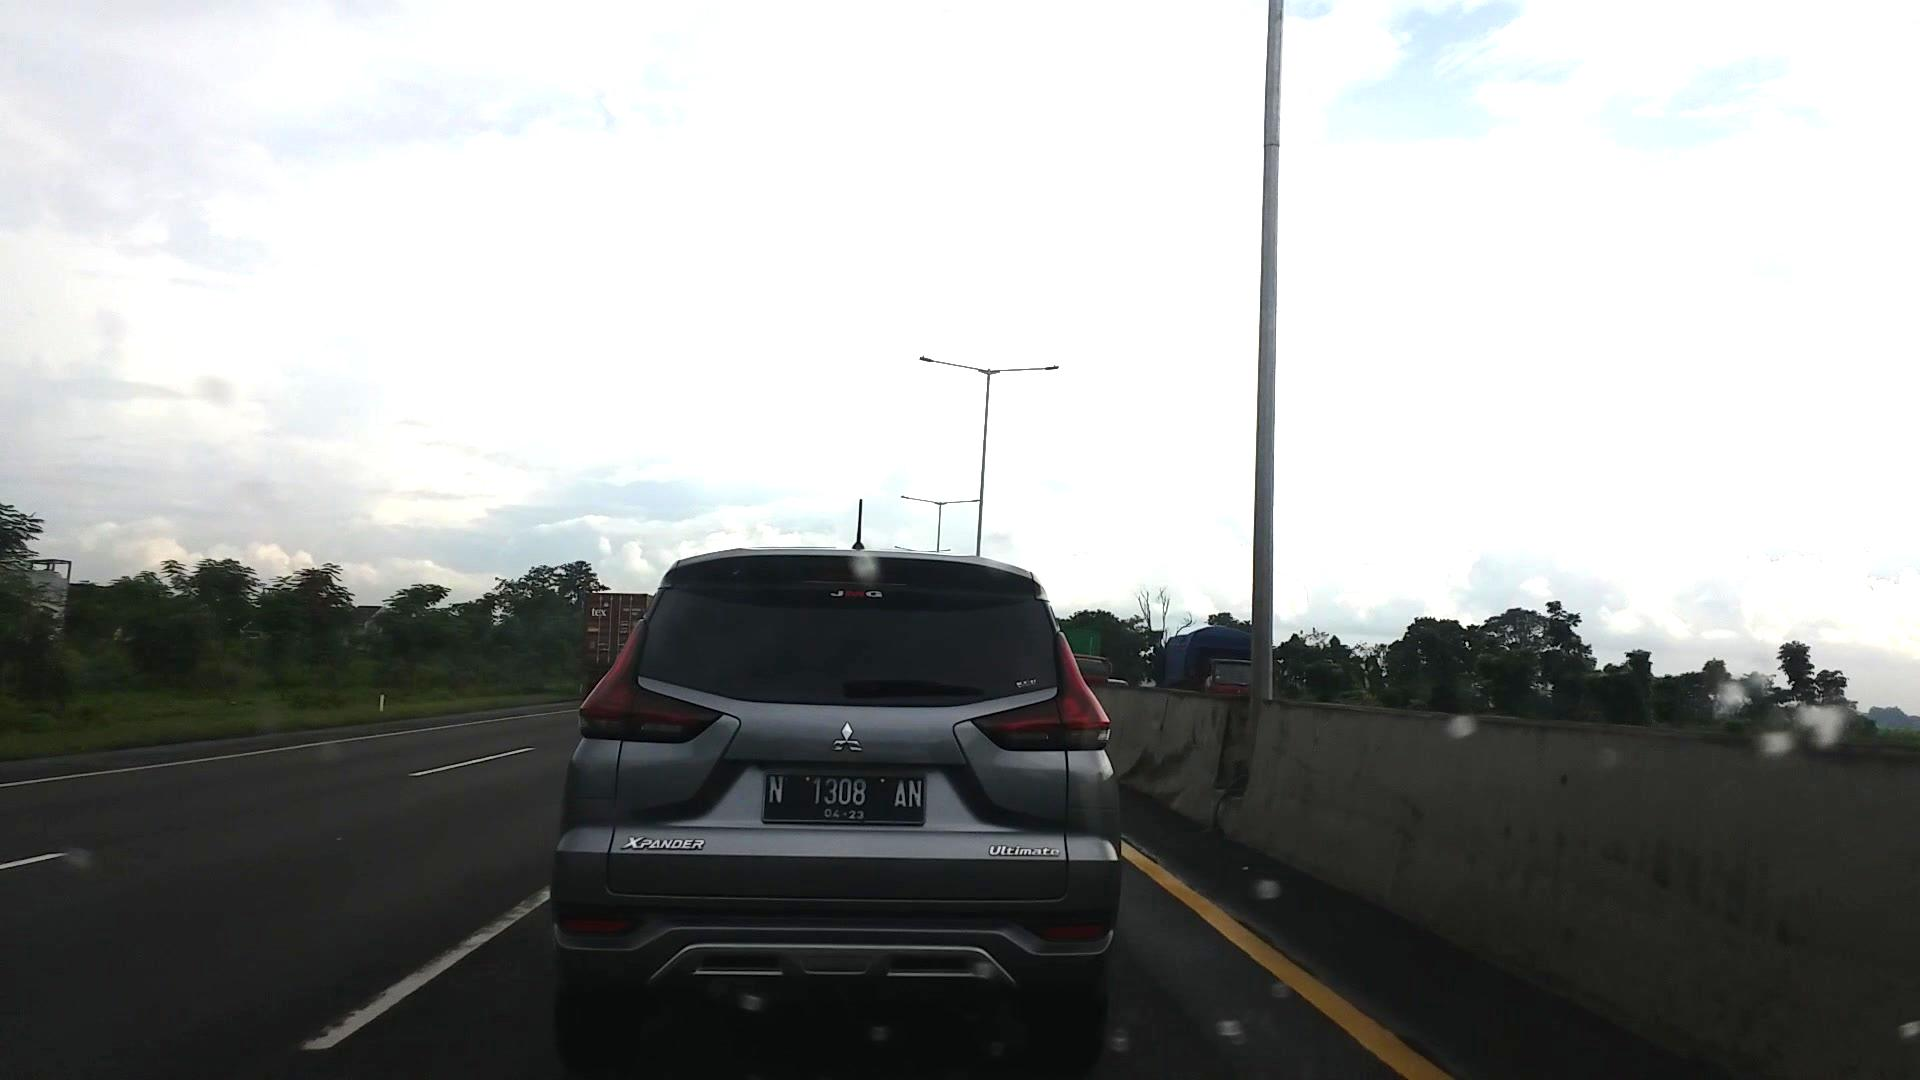plate_positive: (762, 771, 924, 825)
